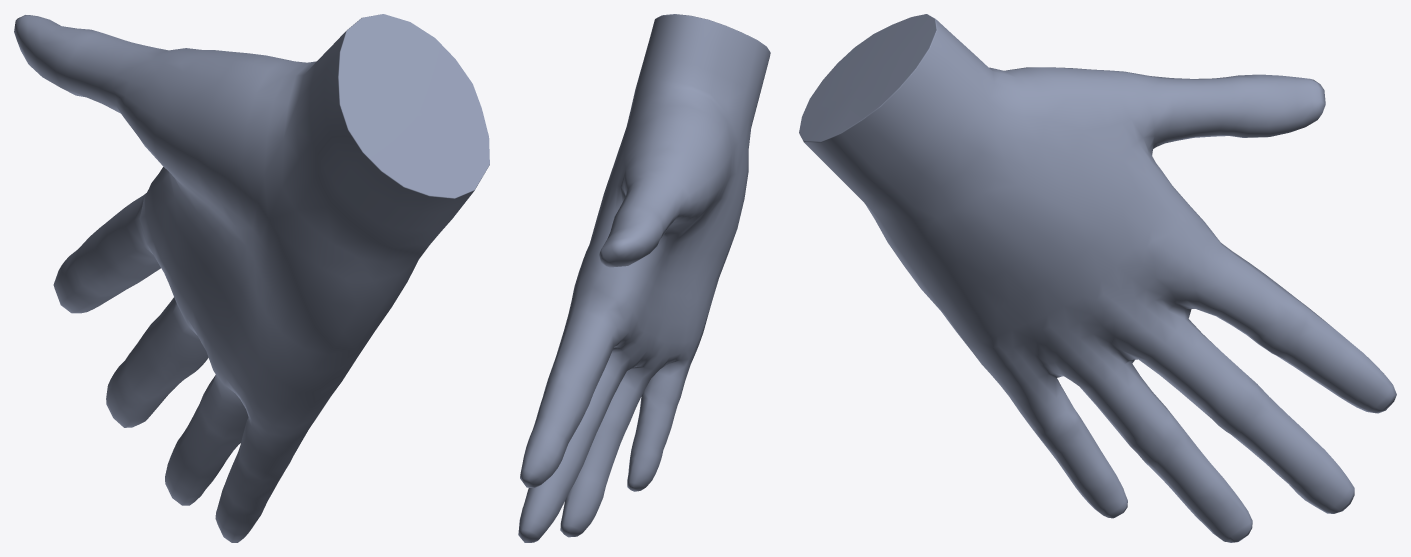
The model's file is pico_hand_right.obj.
3 renders of one model, left to right at view 1: azimuth 30°, elevation 25°; view 2: azimuth 150°, elevation 25°; view 3: azimuth 270°, elevation 25°, orthographic. The views are drawn at different scales.
Parts seen in each view (by area): view 1: pico_hand_right; view 2: pico_hand_right; view 3: pico_hand_right.
Part boxes in pixels (x1,y1,x2,y2): pico_hand_right: (14, 14, 489, 542); pico_hand_right: (518, 14, 770, 542); pico_hand_right: (799, 14, 1396, 542).
Bounding box in the file's own units: 0.0651 × 0.1757 × 0.181.
Materials: 1 (1 with a texture image).
